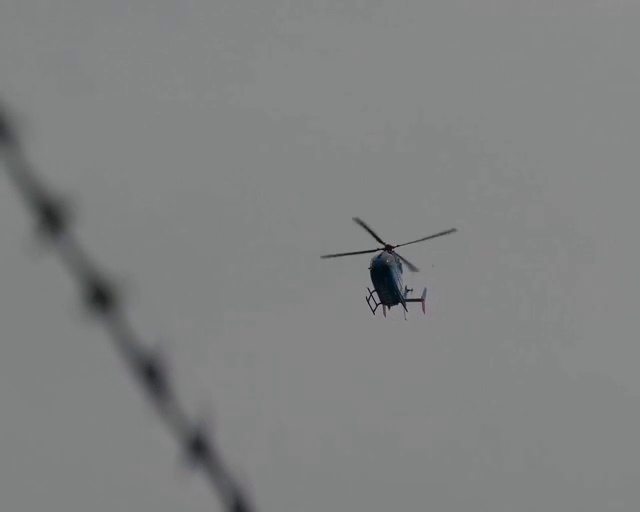HELICOPTER: (319, 216, 458, 320)
